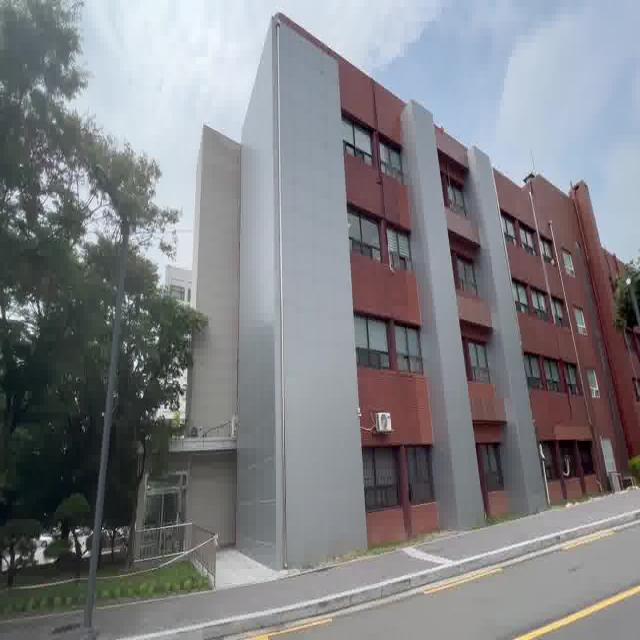building: (197, 14, 626, 518)
